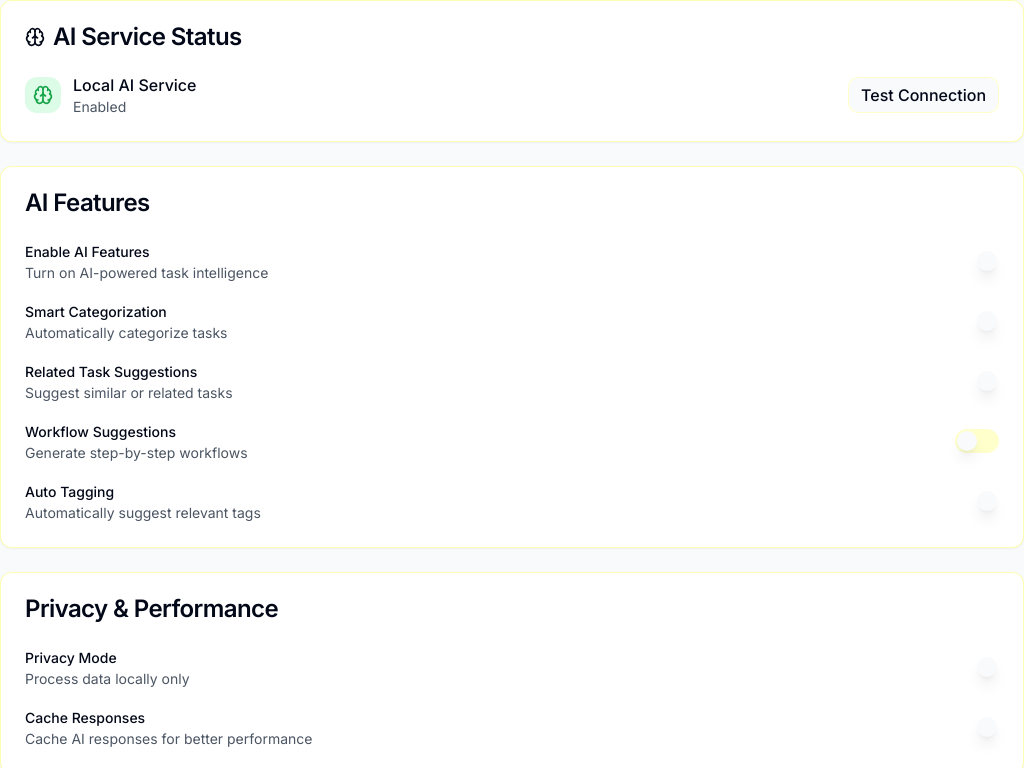
Test: AISettings › handles AI connection test failure
This screenshot has width=1024, height=768.
Click the button with test id "test-ai-connection" at (924, 95), box [848, 77, 999, 113]
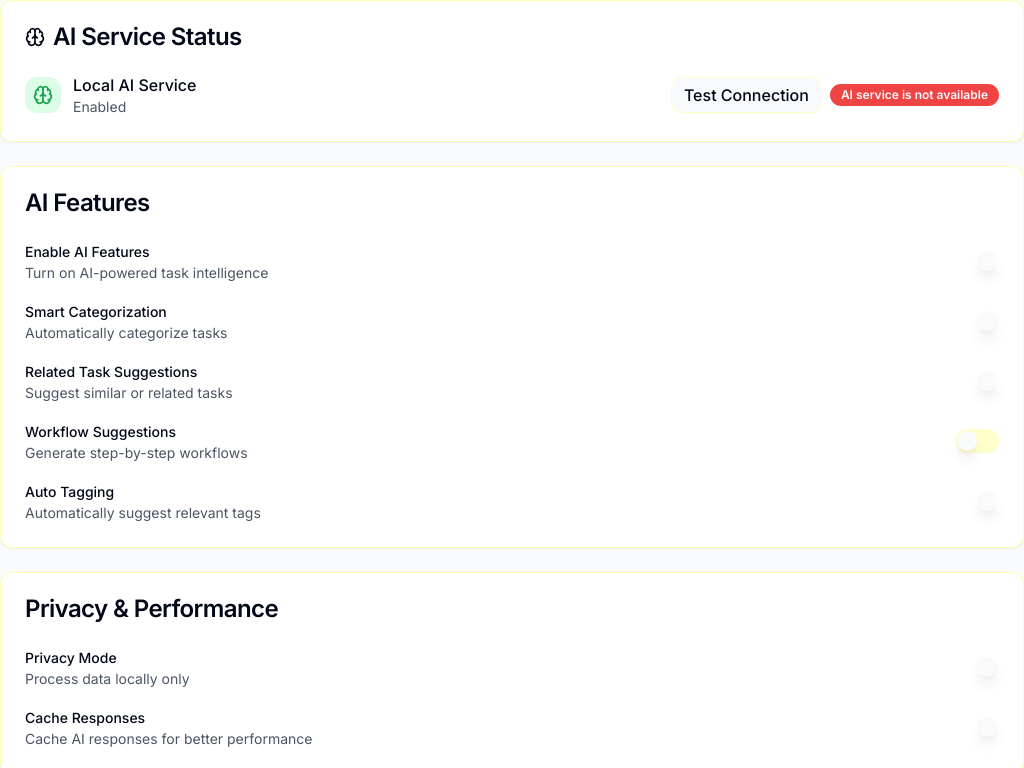
Now the text "AI service is not available" is shown, box [830, 84, 999, 106]
